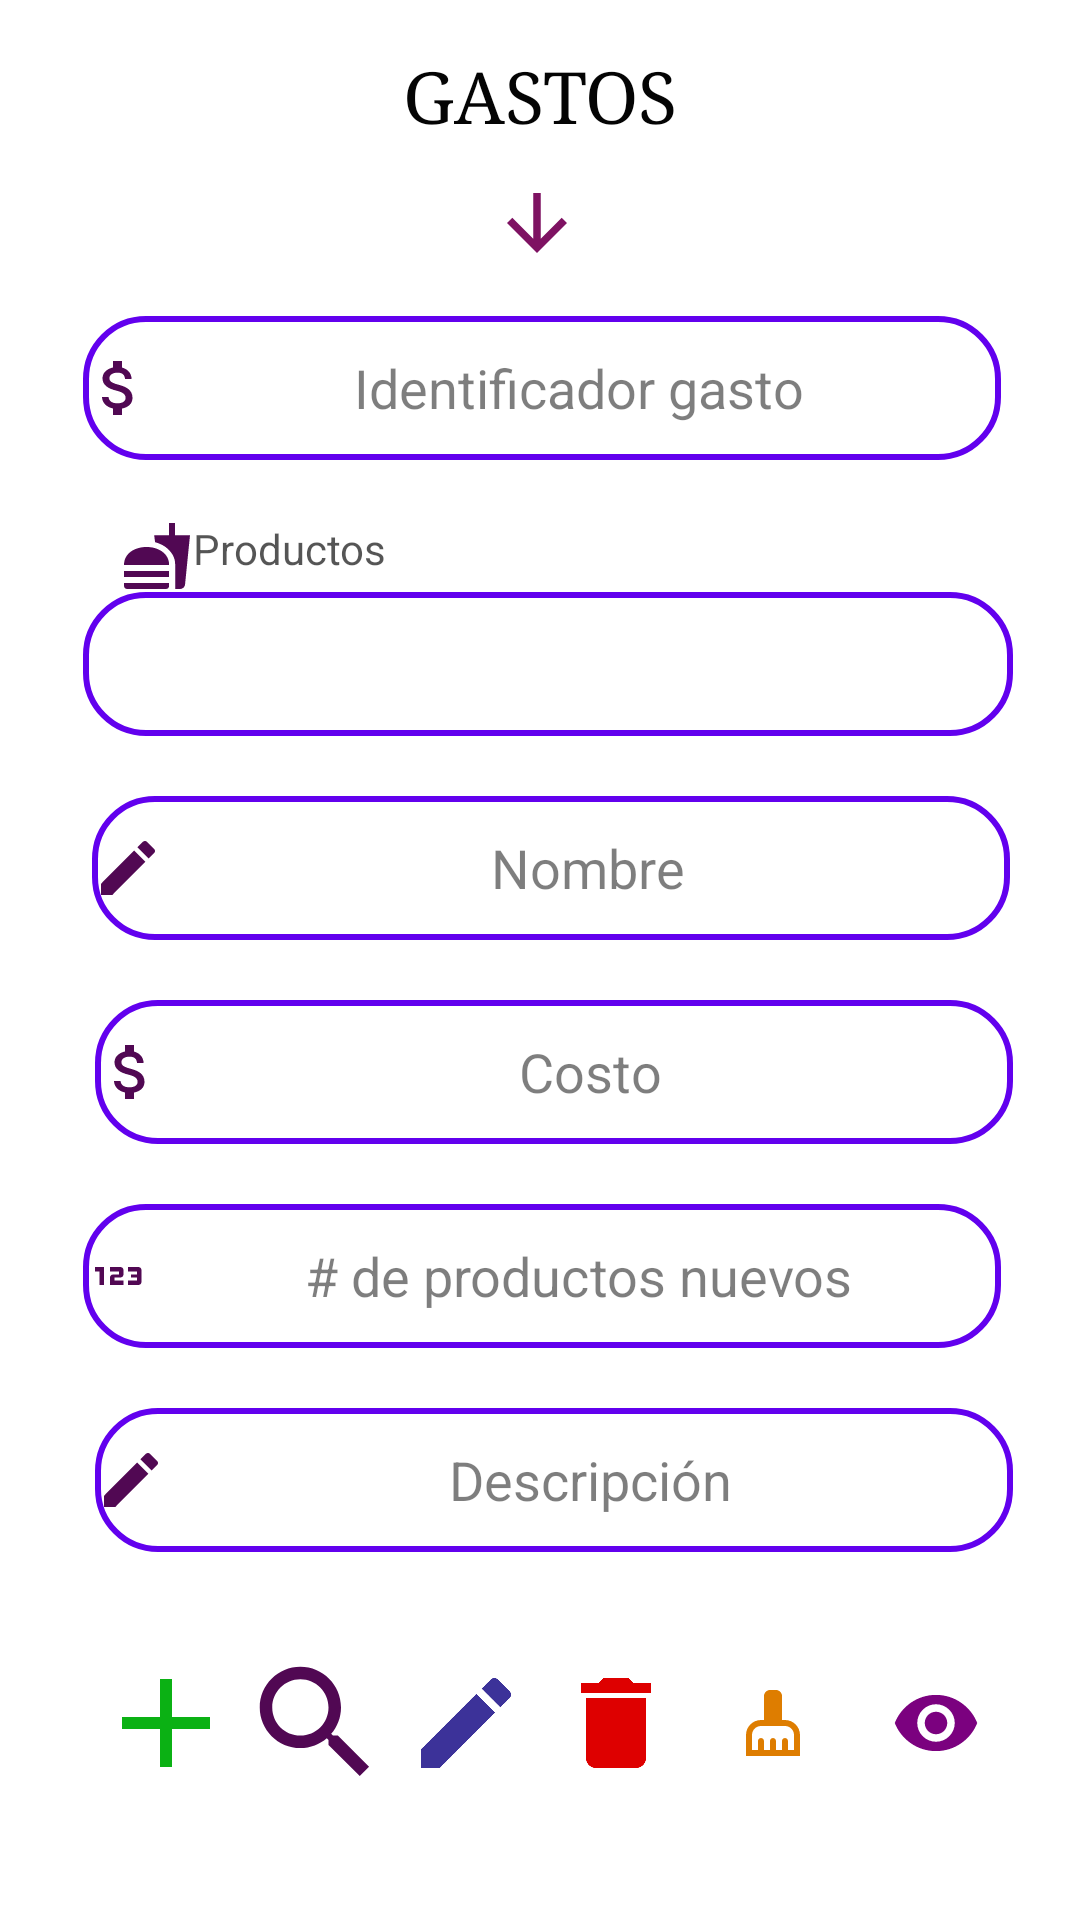

Named icons in this screenshot (1080 × 1920) and their bounding boxes, (left=x1, top=y1, right=x2, bottom=y2):
add: (left=122, top=1679, right=210, bottom=1767)
arrow downward: (left=507, top=193, right=567, bottom=253)
buscar: (left=259, top=1666, right=369, bottom=1776)
cleaning services: (left=746, top=1690, right=800, bottom=1756)
edit: (left=421, top=1678, right=511, bottom=1768)
eyes: (left=895, top=1695, right=977, bottom=1751)
